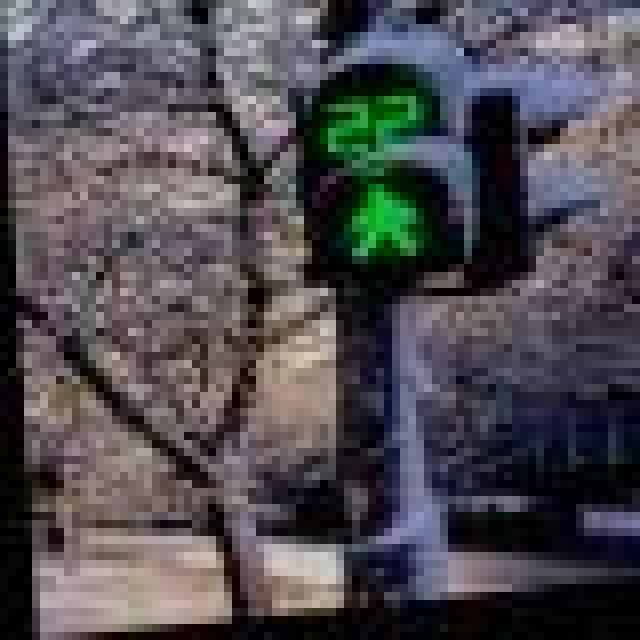greenlight: (296, 40, 472, 296)
